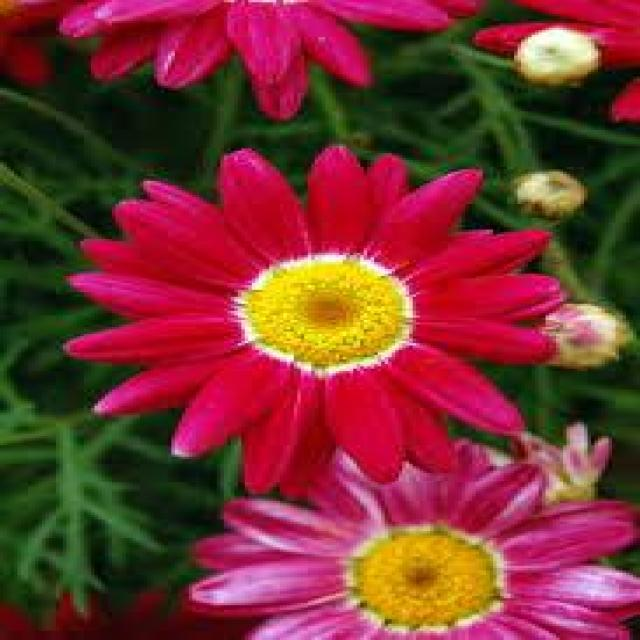organic waste: (63, 144, 560, 468), (165, 453, 630, 630), (33, 0, 460, 116)
